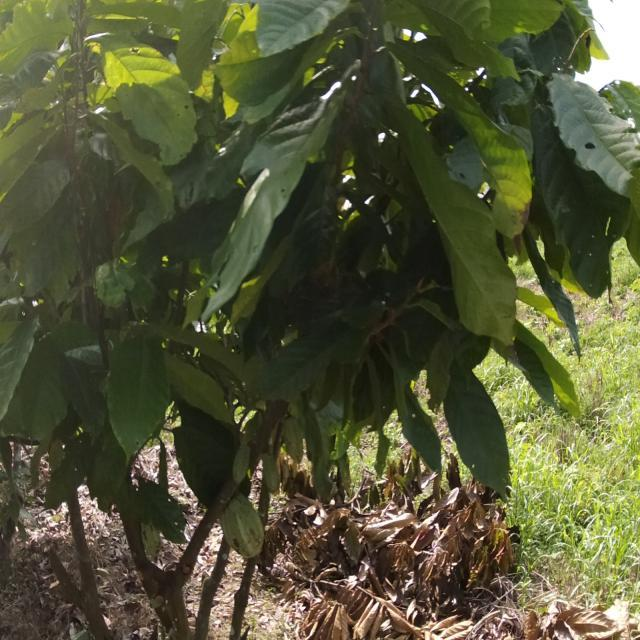Mature_Unripe: (219, 485, 272, 573)
